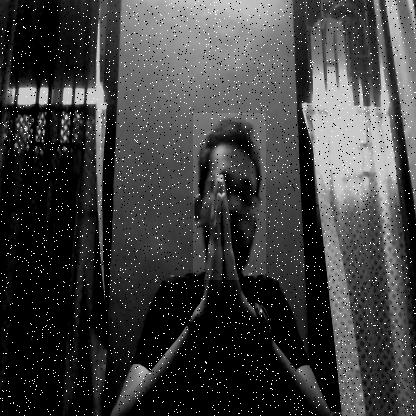Distracted: (193, 113, 266, 280)
